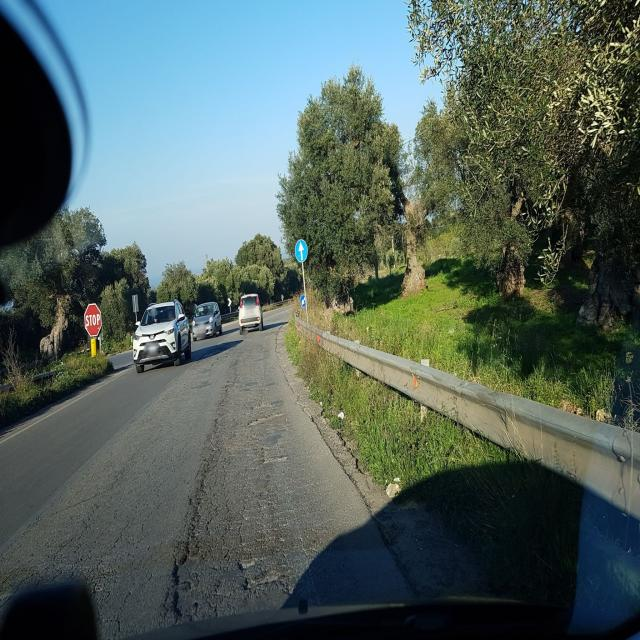car: (132, 299, 192, 373), (192, 301, 222, 339), (238, 292, 263, 332)
